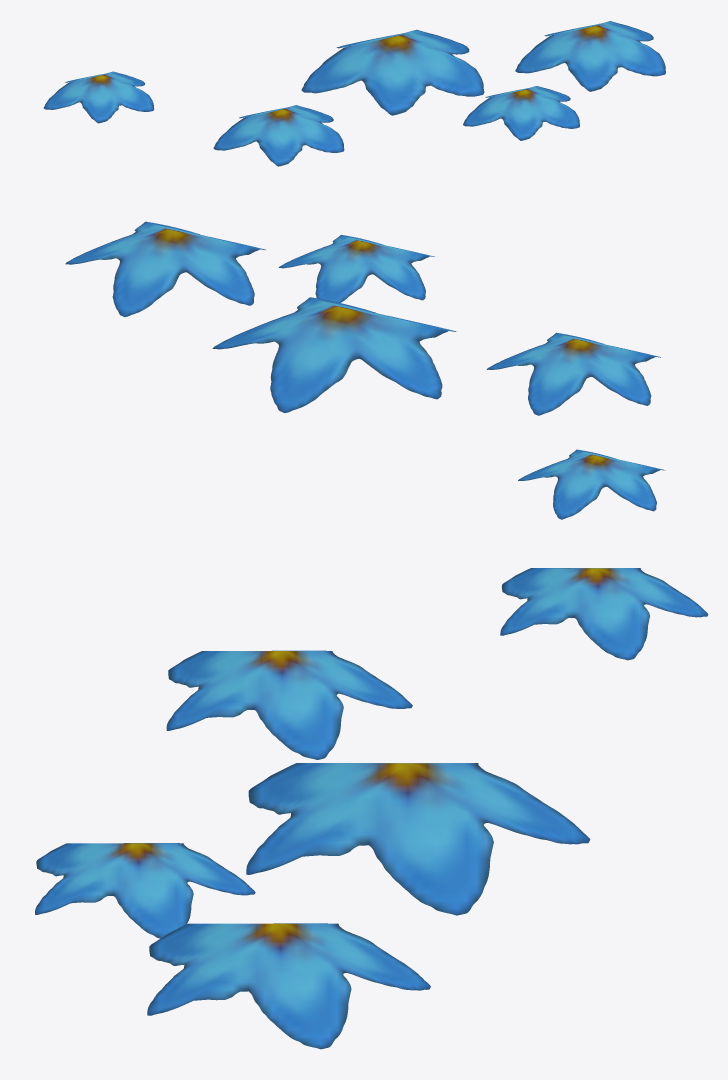
Rendered from flower_03.FBX.
3 renders of one model, top to bottom at view 1: azimuth 30°, elevation 25°; view 2: azimuth 150°, elevation 25°; view 3: azimuth 270°, elevation 25°, orthographic. The views are drawn at different scales.
Visible parts, largest first — view 1: Plane018; view 2: Plane018; view 3: Plane018.
Part boxes in pixels (bbox=[...]): Plane018: bbox=[43, 21, 665, 166]; Plane018: bbox=[65, 221, 665, 519]; Plane018: bbox=[35, 568, 708, 1049].
Bounding box in the file's own units: 171 × 13.68 × 101.
1 material, 1 textured.
